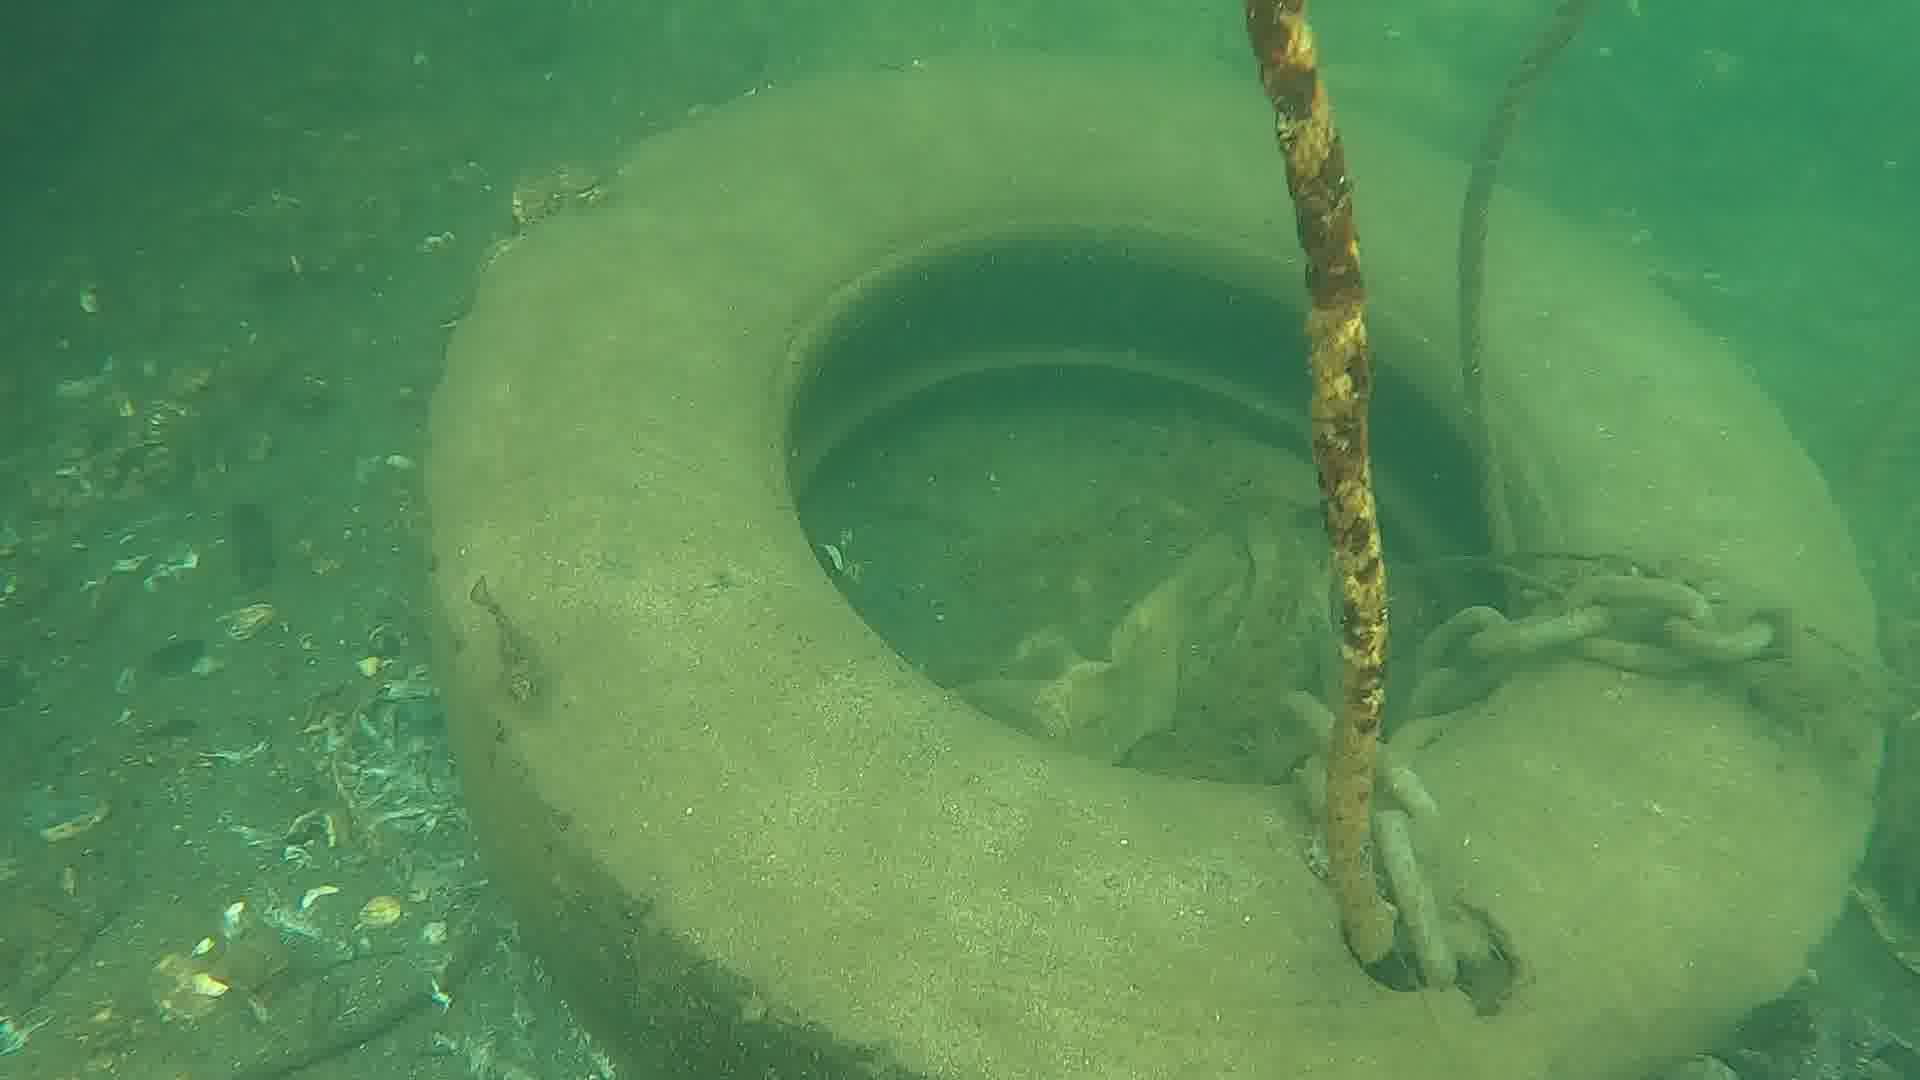rope: (1244, 0, 1404, 969), (1453, 0, 1617, 618)
tire: (417, 42, 1894, 1073)
